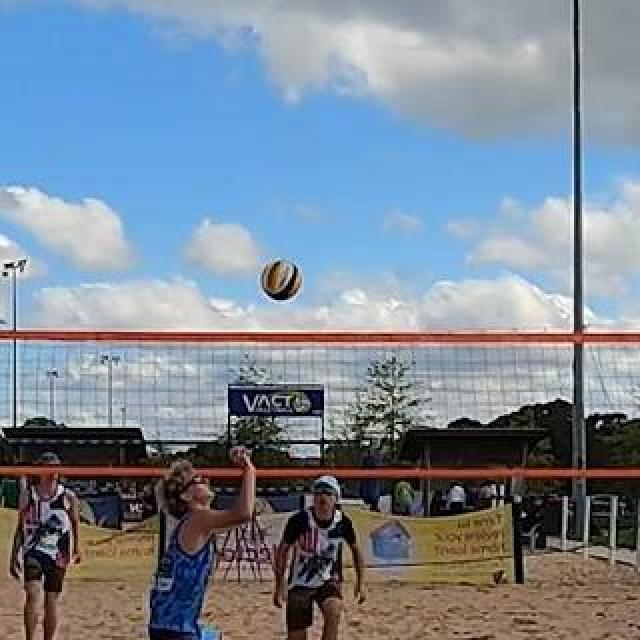volleyball: (260, 259, 302, 301), (493, 571, 507, 585)
